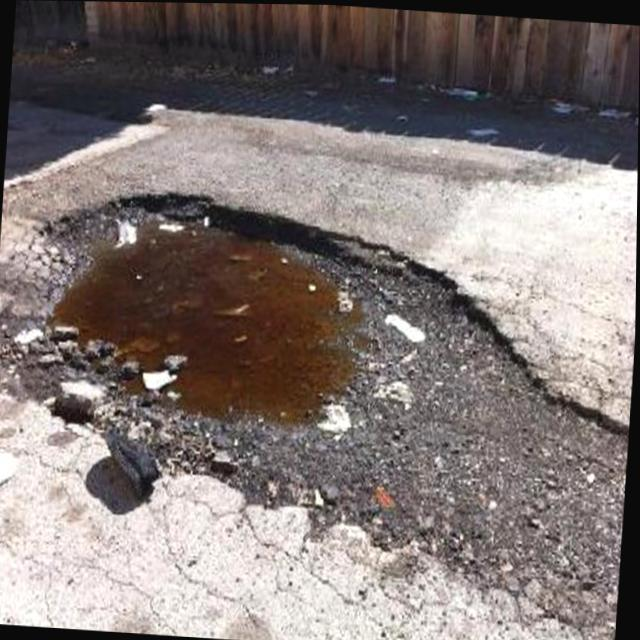Potholes: (30, 190, 576, 516)
